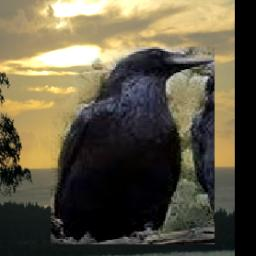Crow: (51, 47, 215, 244)
